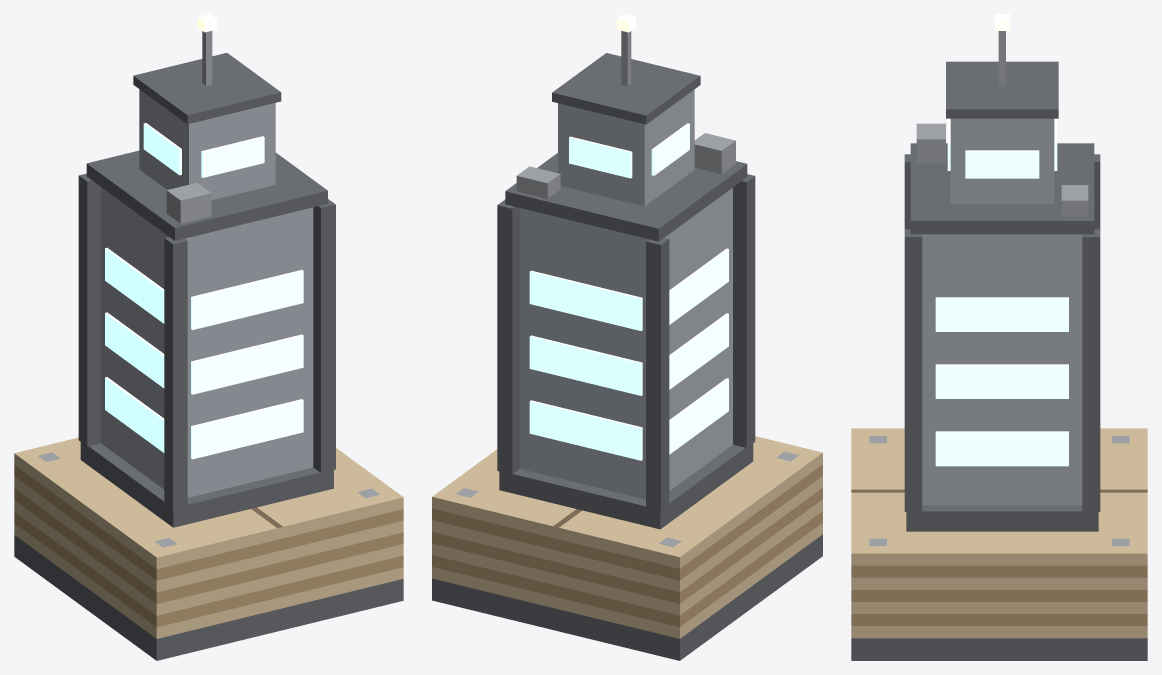
Rendered from PlywoodTile_Center1.fbx.
3 renders of one model, left to right at view 1: azimuth 30°, elevation 25°; view 2: azimuth 150°, elevation 25°; view 3: azimuth 270°, elevation 25°, orthographic. The views are drawn at different scales.
Parts seen in each view (by area): view 1: PlywoodTile_Center1; view 2: PlywoodTile_Center1; view 3: PlywoodTile_Center1.
Part boxes in pixels (left/top/right/bottom): PlywoodTile_Center1: left=14, top=14, right=403, bottom=660; PlywoodTile_Center1: left=432, top=14, right=822, bottom=660; PlywoodTile_Center1: left=851, top=14, right=1147, bottom=660.
Size of the model in its own units: 1 by 2.16 by 1.
